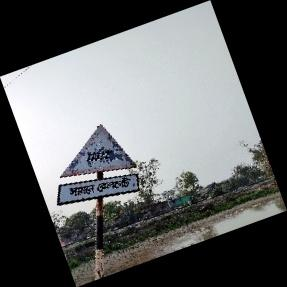Rail-crossing: (48, 121, 146, 203)
